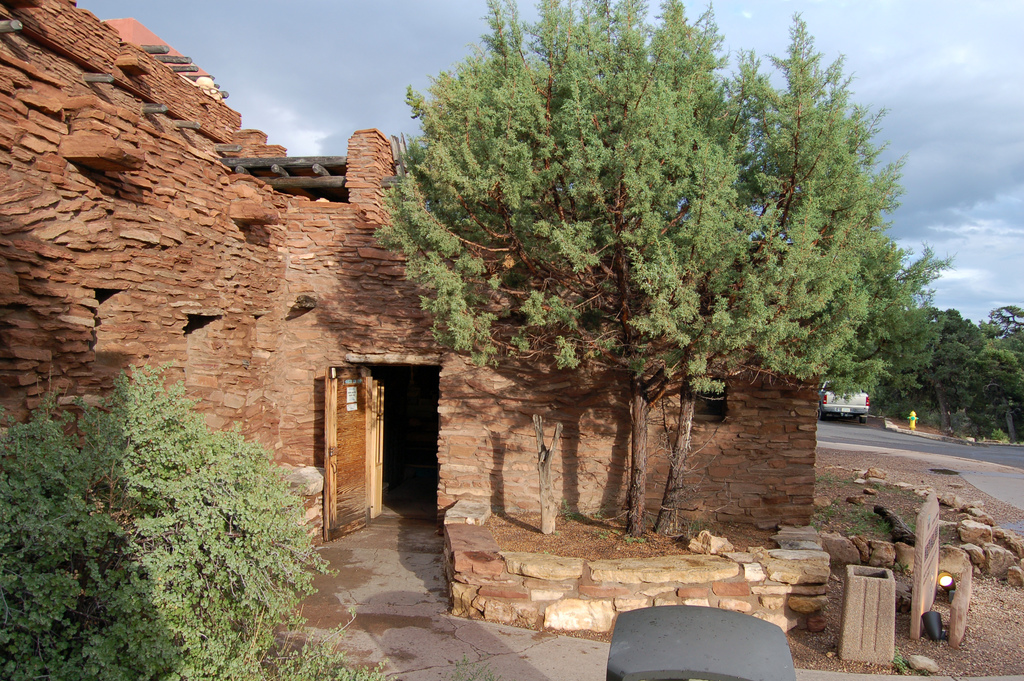tree: (374, 1, 952, 544), (1, 362, 396, 681)
